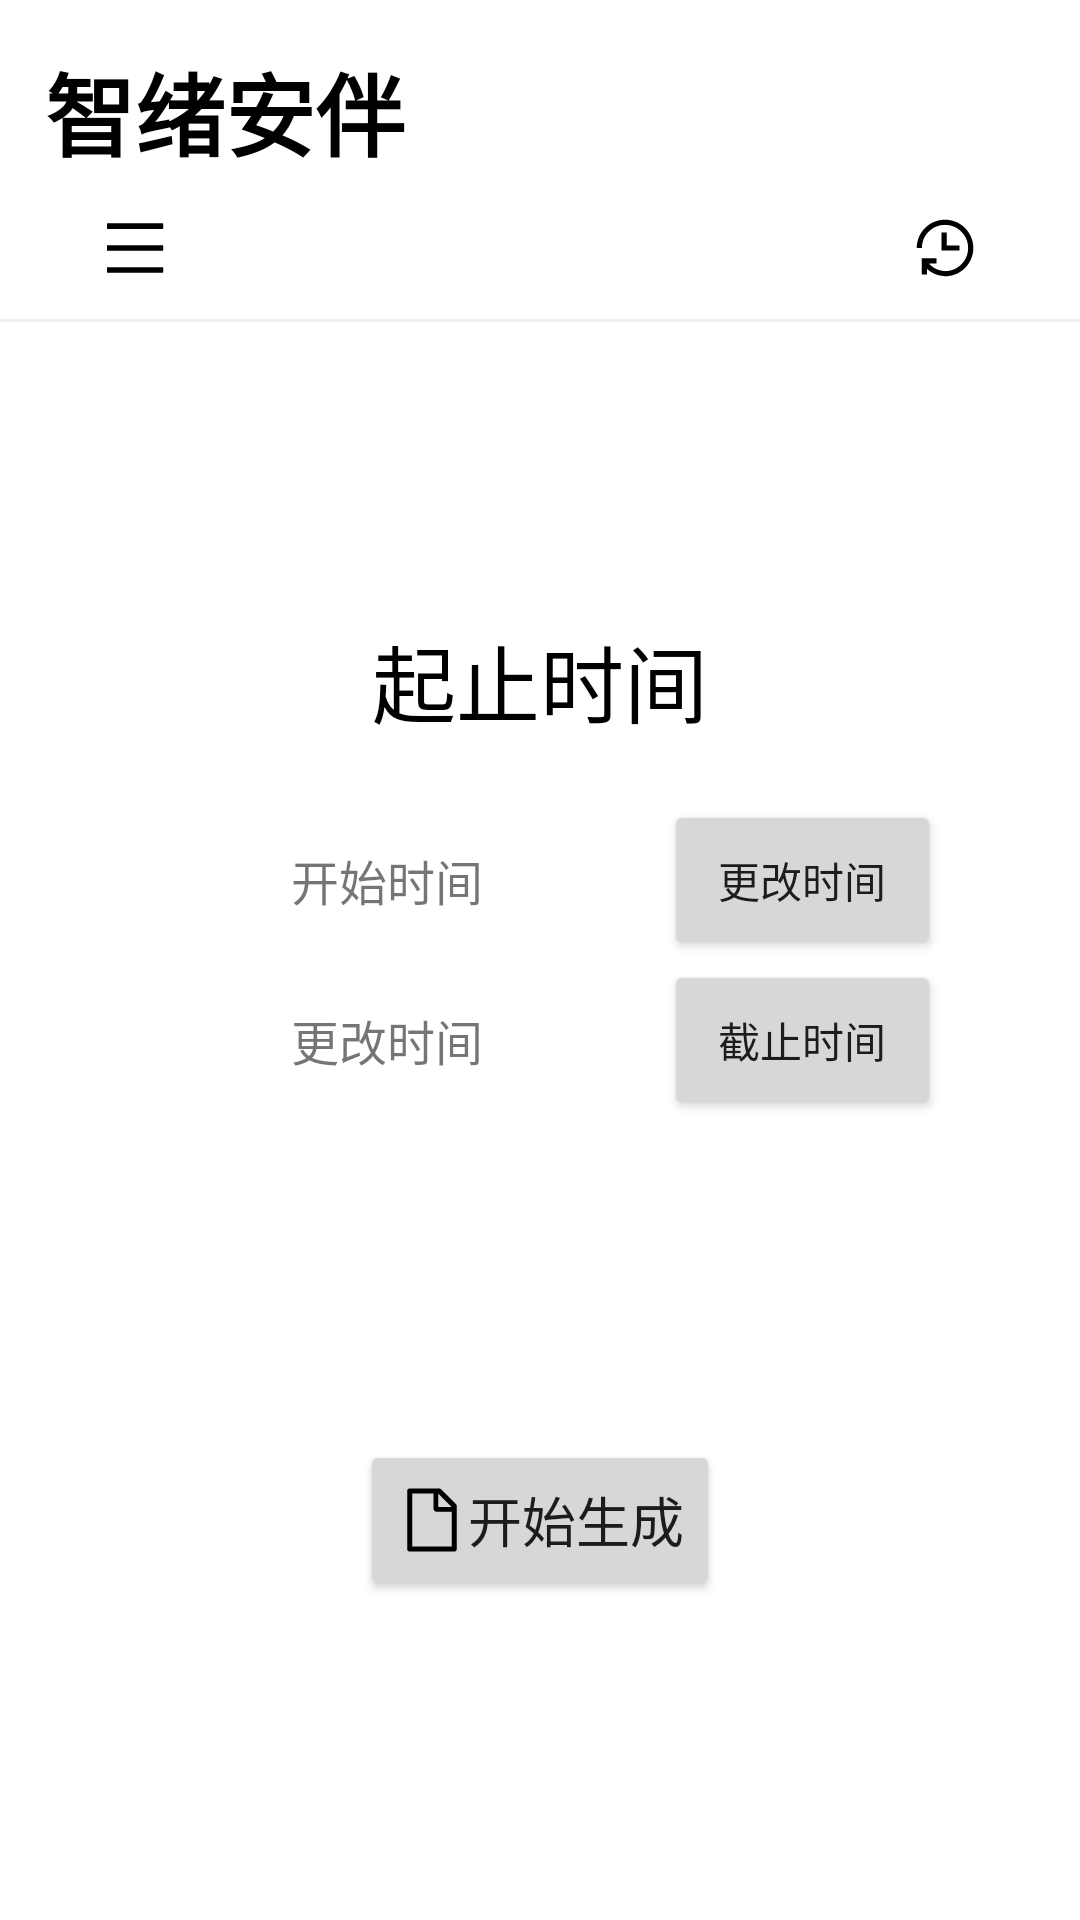

Icons on this 1080 × 1920 Android screen, each with its box as (x1, y1, x2, y2):
历史记录: (916, 219, 974, 277)
菜单: (107, 223, 164, 273)
